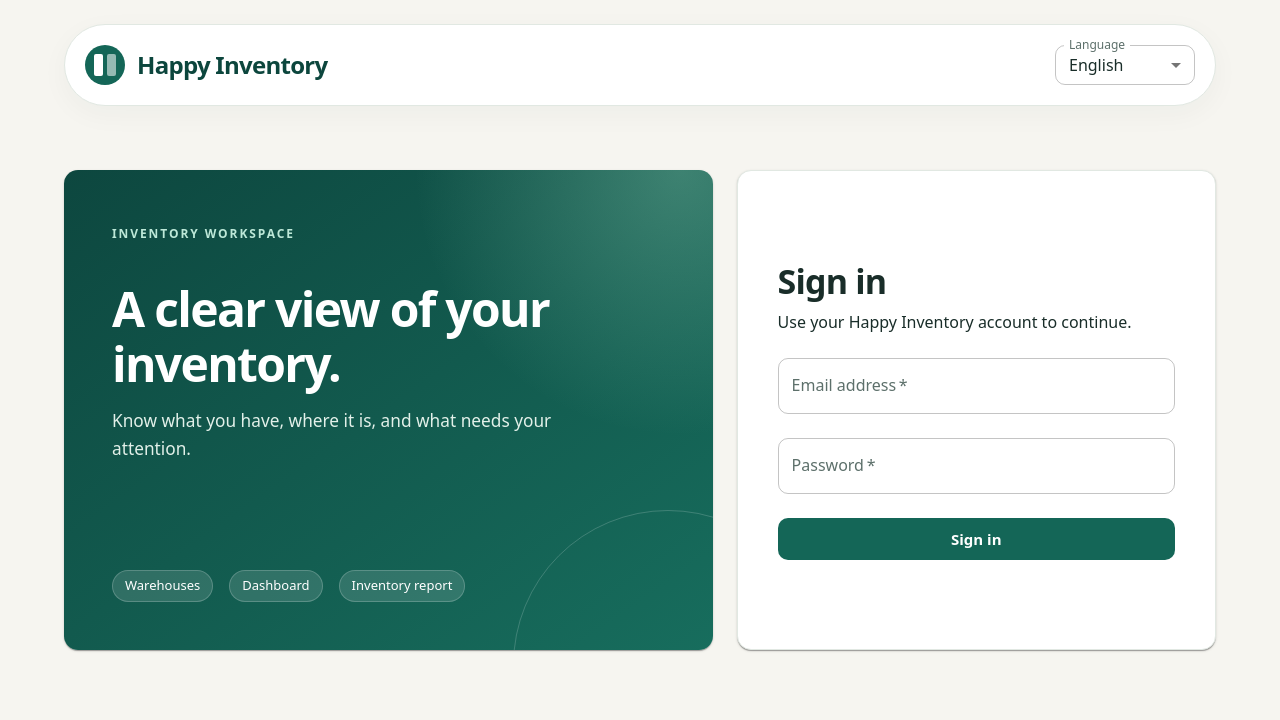
Test: Phase 3 session UI › shows login first and enters the welcome page after sign-in
The width and height of the screenshot is (1280, 720).
Expected: the heading "Sign in" is shown, [778, 258, 886, 304]
In the field labelled "Email address": (976, 386) [778, 358, 1175, 414], type "admin@example.com"
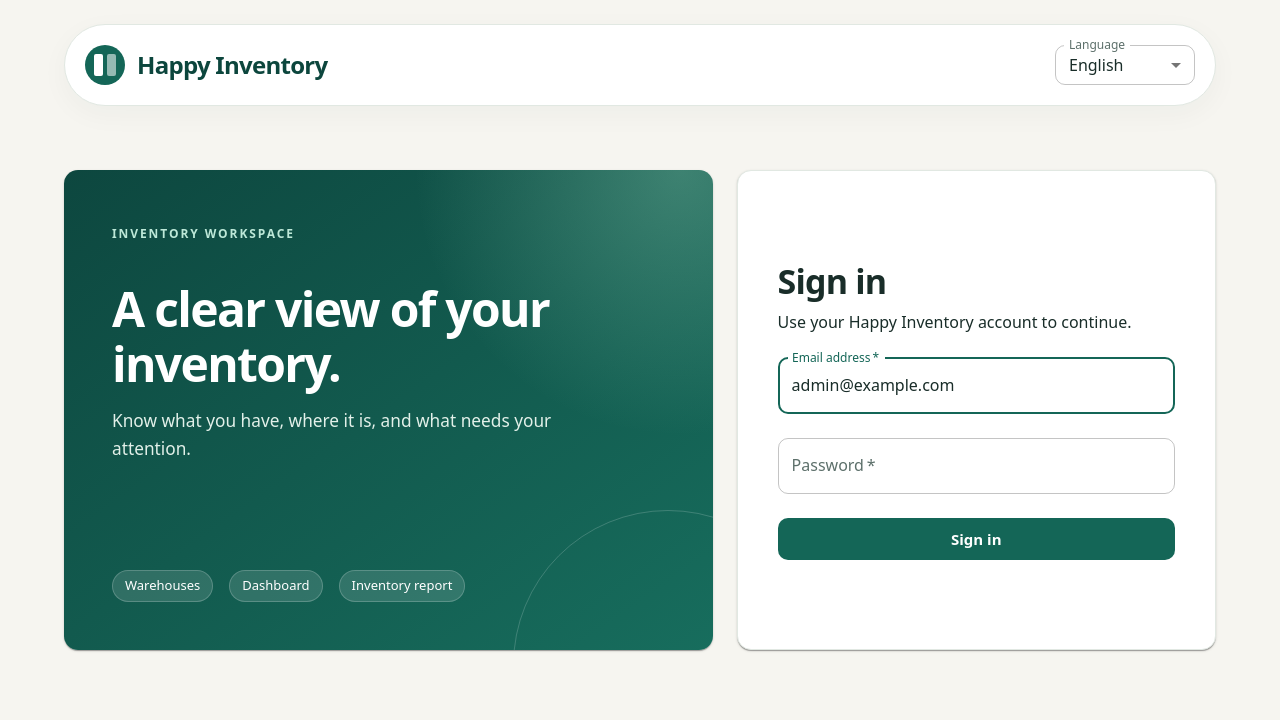
In the password field labelled "Password *": (976, 466) [778, 438, 1175, 494], type "correct-password"
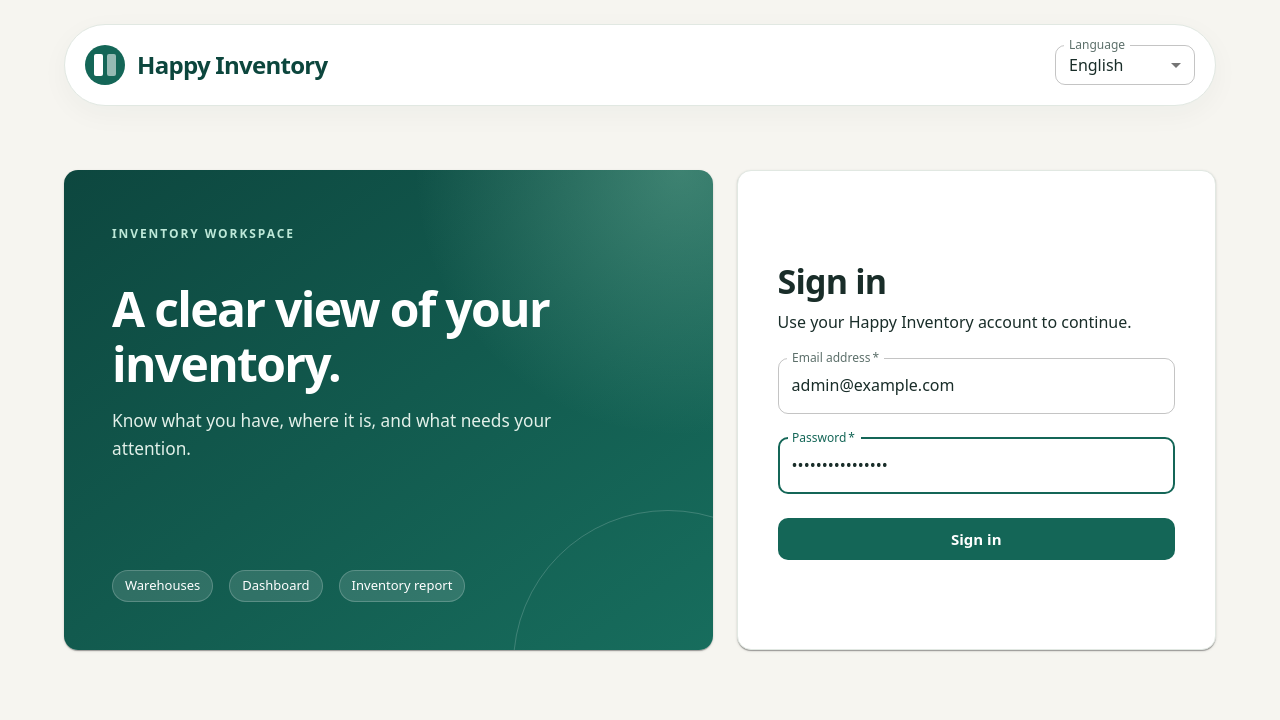
Click the button "Sign in": click(976, 539) [778, 518, 1175, 560]
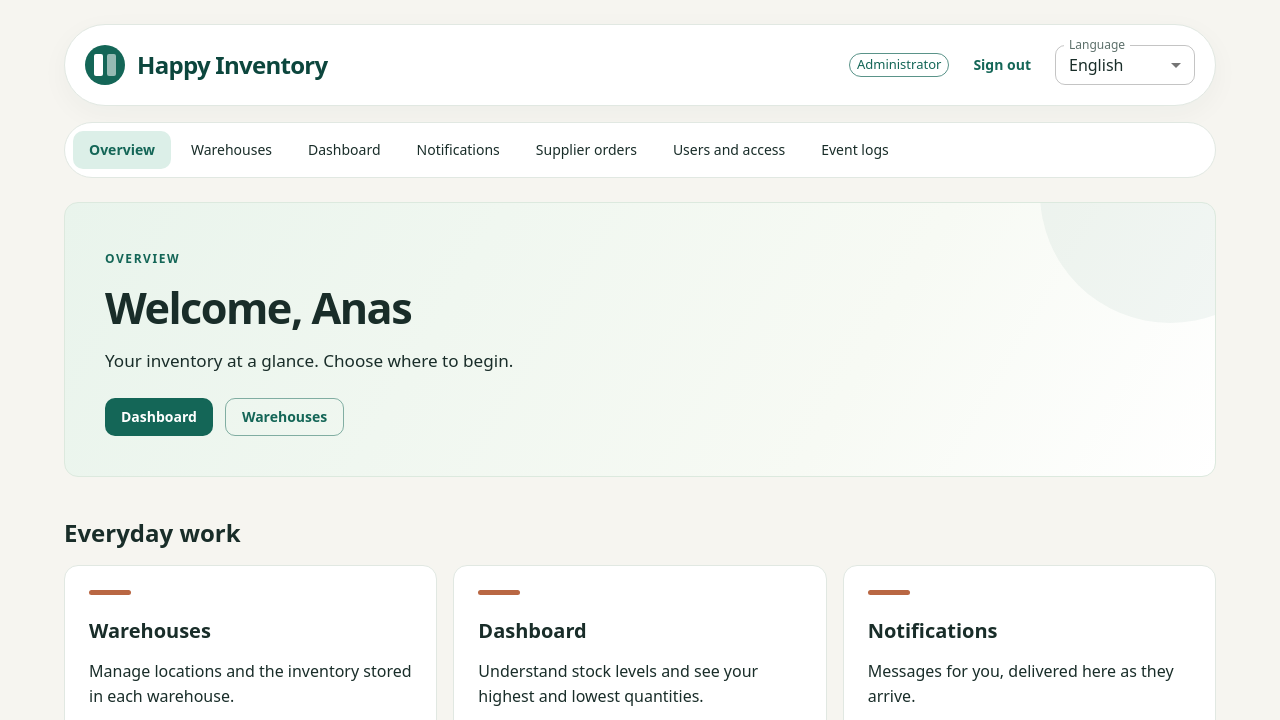
Now the heading "Welcome, Anas" is shown, box [105, 278, 411, 337]
Now the link "Users and access" is shown, box [673, 140, 785, 159]
Now the link "Supplier orders" is shown, box [536, 140, 637, 159]
